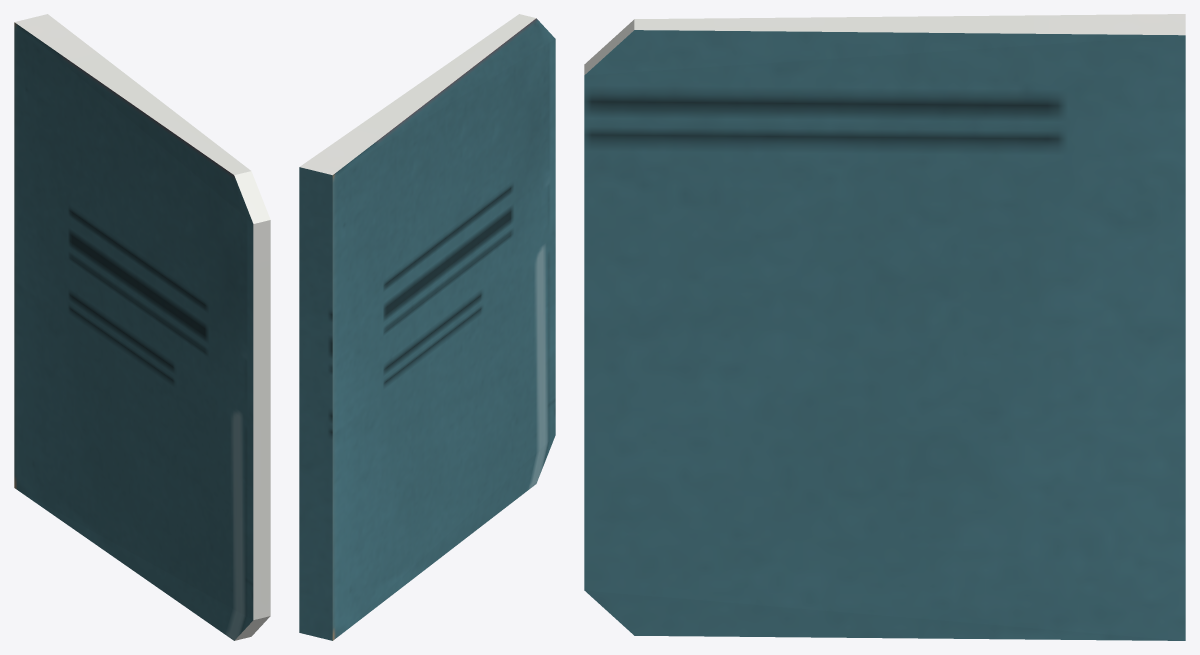
The model's file is FolderMiniBlue.fbx.
The picture shows the model from 3 angles, left to right: view 1: azimuth 30°, elevation 25°; view 2: azimuth 150°, elevation 25°; view 3: azimuth 270°, elevation 25°; orthographic projection. The views are drawn at different scales.
Visible parts, largest first — view 1: FolderMiniBlue; view 2: FolderMiniBlue; view 3: FolderMiniBlue.
Part boxes in pixels (<box>): FolderMiniBlue: <box>14,14,270,640</box>; FolderMiniBlue: <box>299,14,555,640</box>; FolderMiniBlue: <box>584,14,1185,640</box>.
Size of the model in its own units: 3.33 by 44.24 by 39.78.
